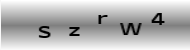4: (150, 11, 164, 26)
S: (37, 25, 52, 39)
W: (119, 22, 142, 36)
r: (97, 14, 108, 24)
z: (67, 26, 81, 36)
